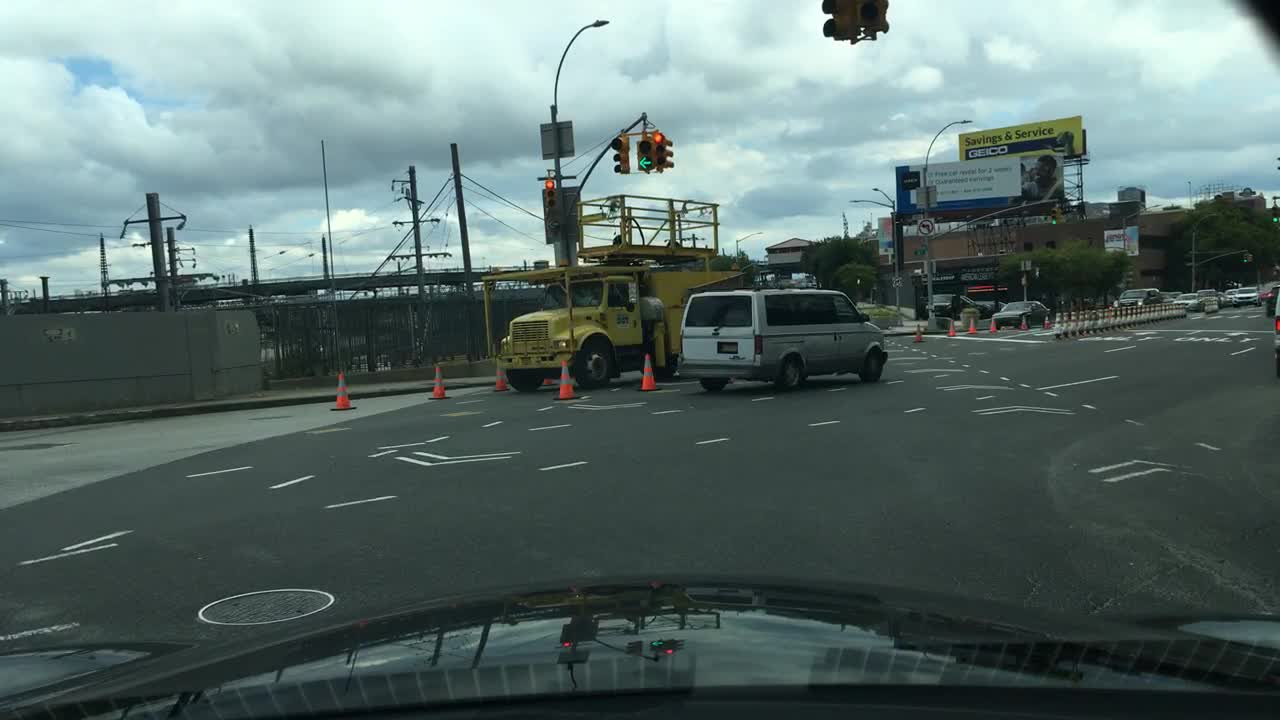car: (674, 287, 886, 392), (991, 301, 1050, 334), (1111, 287, 1165, 309), (955, 294, 989, 321), (1269, 287, 1279, 375), (925, 294, 957, 319), (1230, 284, 1264, 307), (1262, 280, 1279, 318), (1173, 291, 1202, 311), (977, 297, 1008, 313), (1212, 289, 1232, 307), (1163, 287, 1183, 304)
traffic light: (820, 0, 854, 44), (857, 0, 891, 32), (611, 132, 628, 174), (542, 178, 559, 213), (638, 135, 653, 169), (662, 135, 675, 171), (652, 132, 665, 167), (1046, 205, 1062, 226), (1269, 203, 1279, 226), (1239, 250, 1251, 265)
traffic sign: (542, 184, 582, 243), (539, 118, 574, 157), (552, 242, 581, 264), (917, 213, 935, 240), (922, 257, 937, 275), (1018, 255, 1031, 274), (910, 245, 927, 259)
truck: (481, 194, 746, 397)
